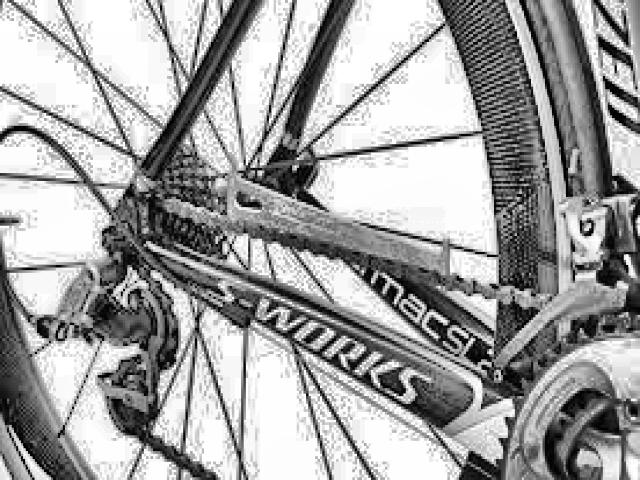rear_derailleur: (28, 238, 182, 441)
